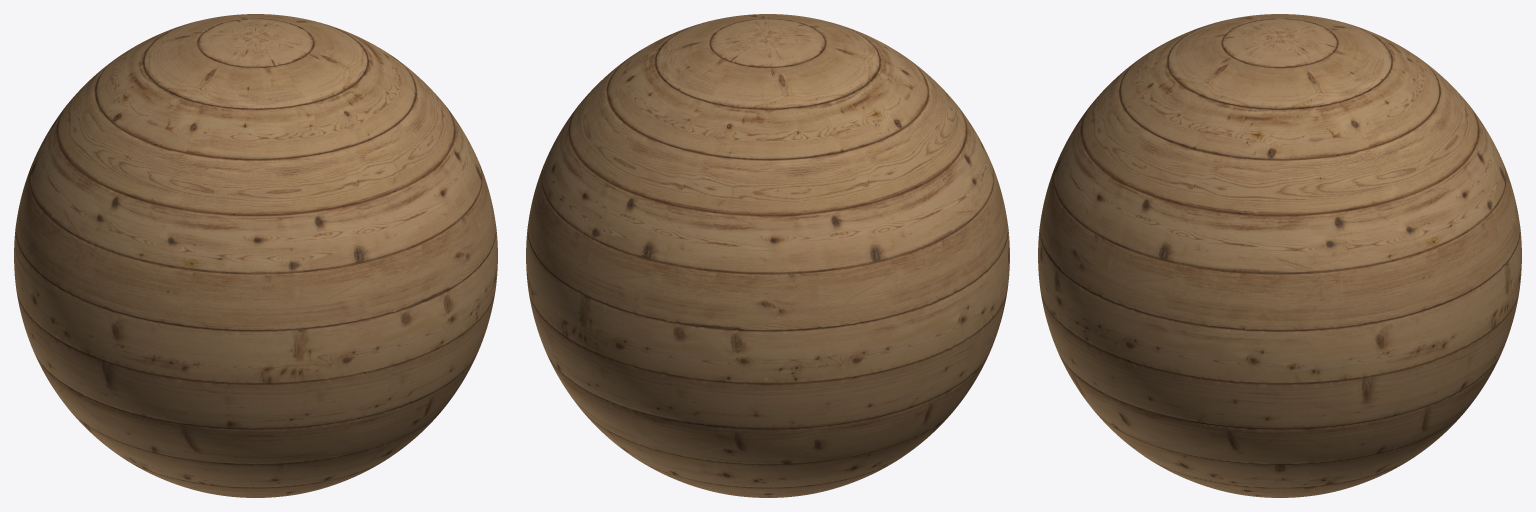
Rendered from hinoki_planks_1k.gltf.
3 renders of one model, left to right at view 1: azimuth 30°, elevation 25°; view 2: azimuth 150°, elevation 25°; view 3: azimuth 270°, elevation 25°, orthographic.
Visible parts, largest first — view 1: sphere_gltf; view 2: sphere_gltf; view 3: sphere_gltf.
Part boxes in pixels (left/top/right/bottom): sphere_gltf: left=14, top=14, right=497, bottom=497; sphere_gltf: left=526, top=14, right=1009, bottom=497; sphere_gltf: left=1038, top=14, right=1521, bottom=497.
Size of the model in its own units: 1.89 by 1.89 by 1.89.
1 material, 1 textured.
